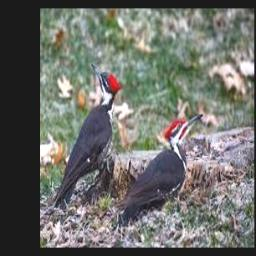Woodpecker: (49, 64, 122, 213), (114, 113, 202, 216)
